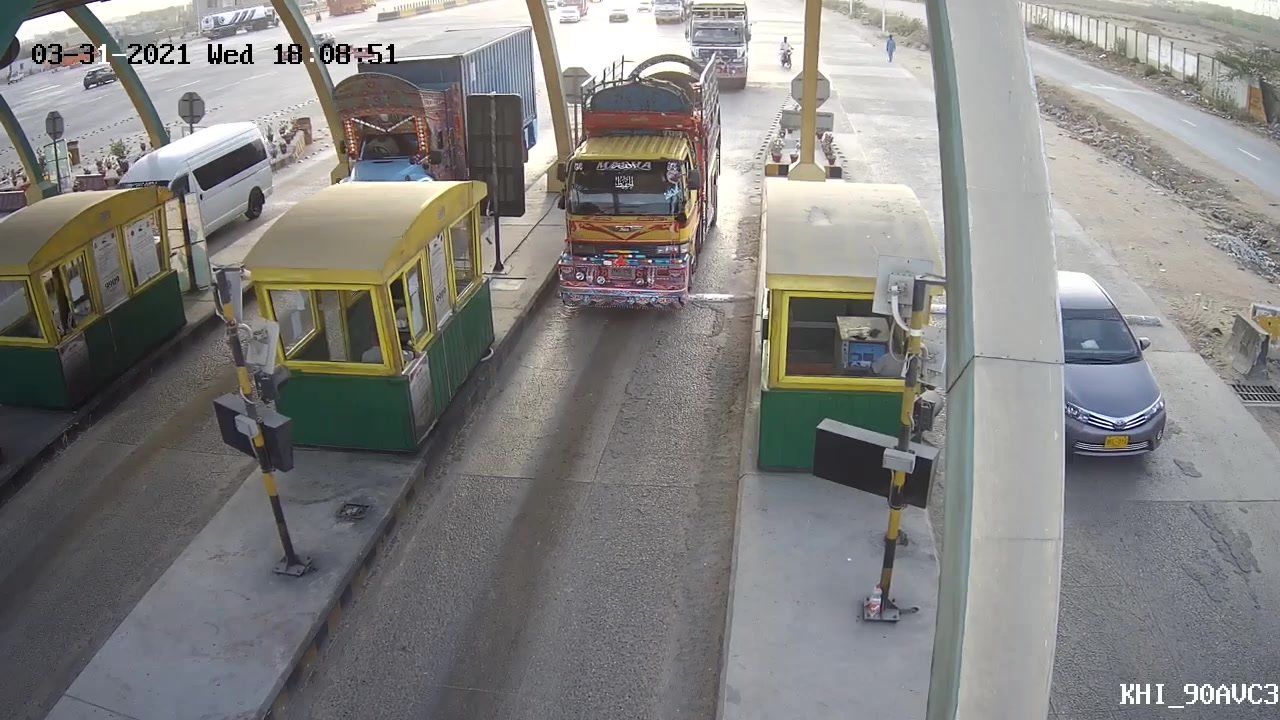F5: (549, 71, 718, 328)
